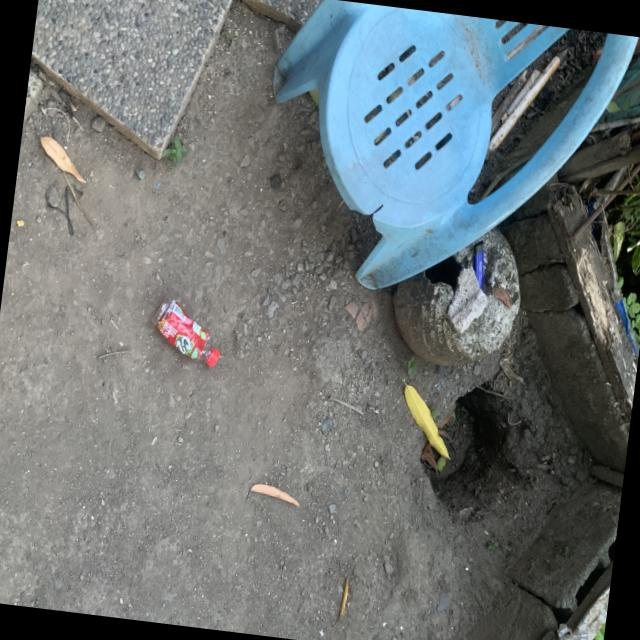Bottle: (153, 299, 219, 366)
